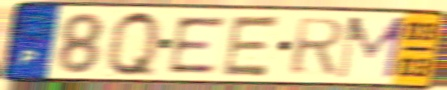8: (52, 11, 107, 76)
E: (218, 14, 284, 79), (167, 14, 229, 76)
M: (333, 15, 409, 81)
Q: (106, 8, 162, 81)
R: (287, 17, 349, 77)
